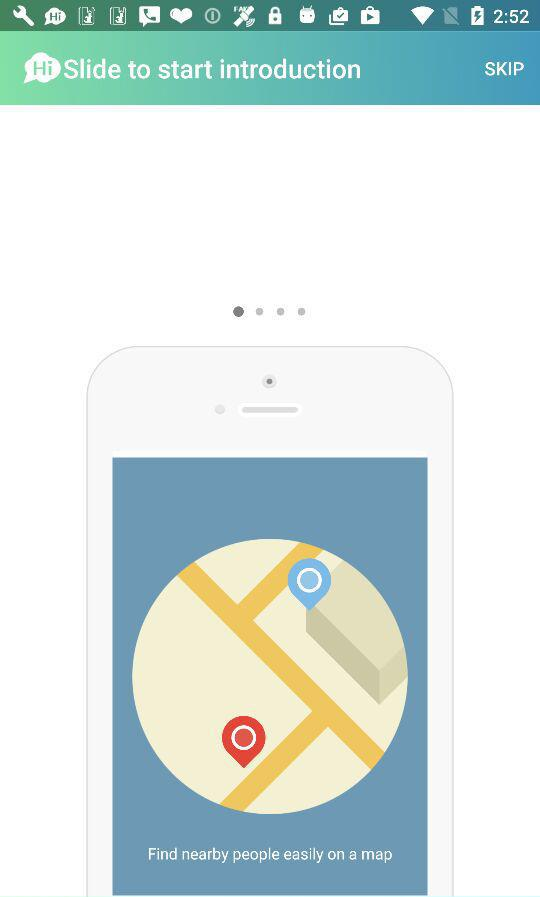Image: (85, 345, 455, 897), (24, 53, 62, 85)
PageIndicator: (232, 305, 307, 319)
Text: (64, 57, 362, 81), (484, 61, 525, 78)
Toolbar: (1, 32, 540, 106)
UpperTaskBar: (1, 1, 540, 32)
